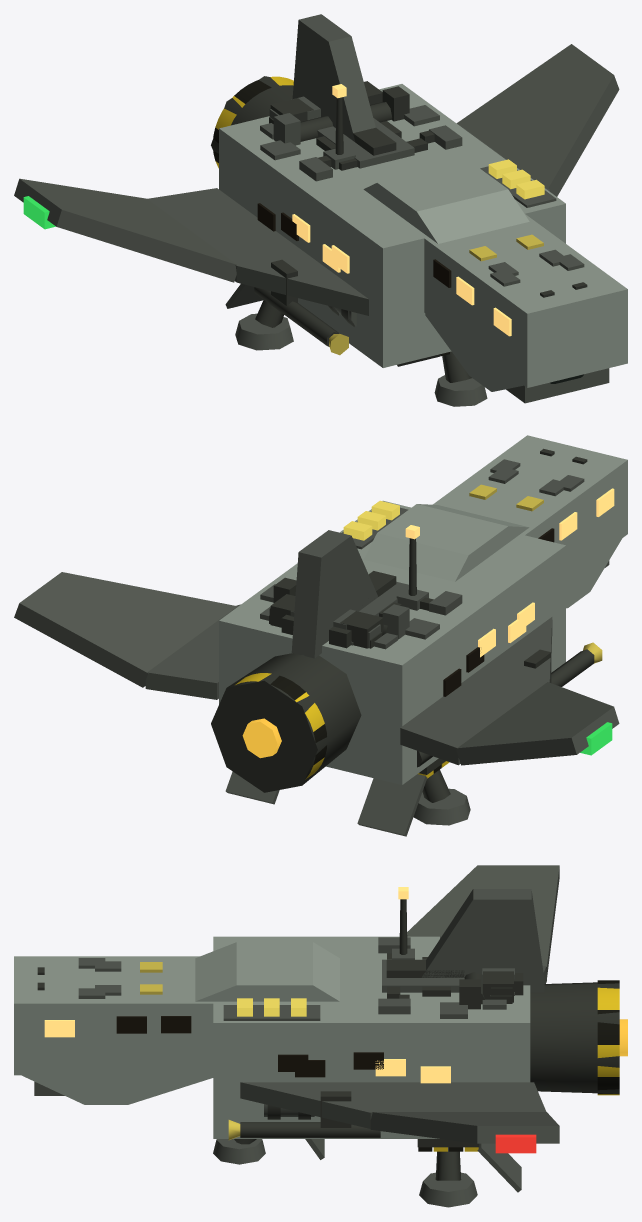
File: fighter-s(3).glb
The picture shows the model from 3 angles, top to bottom: view 1: azimuth 30°, elevation 25°; view 2: azimuth 150°, elevation 25°; view 3: azimuth 270°, elevation 25°; orthographic projection. The views are drawn at different scales.
Visible parts, largest first — view 1: hullMain, hullForebody, wingOuterRight, wingInnerLeft, wingOuterLeft, canopyFairing, stabilizerFin, gearFoot (×2), hullForebodyChamfer, engineHousing, accentStripe, hullNose (+13 smaller); view 2: hullMain, wingOuterRight, engineHousing, hullForebody, wingInnerLeft, wingOuterLeft, canopyFairing, stabilizerFin, wingInnerRight, gearBayDoor (×2), gearFoot, hullForebodyChamfer (+9 smaller); view 3: hullMain, hullForebody, wingInnerRight, stabilizerFin, canopyFairing, engineHousing, wingOuterLeft, wingOuterRight, hullForebodyChamfer, gearFoot (×2), laserBarrel, iffPlinthDorsal (+20 smaller).
Boxes of the visible parts, x1,y1,x2,y2 form: hullMain: (219,84,565,367); hullForebody: (417,214,627,387); wingOuterRight: (457,44,619,196); wingInnerLeft: (147,188,368,315); wingOuterLeft: (14,178,236,282); canopyFairing: (363,160,529,243); stabilizerFin: (292,14,375,142); gearFoot (×2): (235,313,487,406); hullForebodyChamfer: (425,313,523,391); engineHousing: (211,76,293,153); accentStripe: (317,118,414,168); hullNose: (506,368,609,403); hullMain: (219,500,565,784); wingOuterRight: (14,572,237,687); engineHousing: (211,653,361,792); hullForebody: (433,435,627,578); wingInnerLeft: (400,617,552,765); wingOuterLeft: (456,682,619,765); canopyFairing: (363,504,529,581); stabilizerFin: (291,530,378,658); wingInnerRight: (145,604,240,699); gearBayDoor (×2): (225,771,427,836); gearFoot: (413,788,470,825); hullForebodyChamfer: (566,538,622,608); hullMain: (213,936,530,1138); hullForebody: (14,956,213,1075); wingInnerRight: (240,1082,546,1128); stabilizerFin: (422,889,544,992); canopyFairing: (195,942,339,1001); engineHousing: (530,982,619,1093); wingOuterLeft: (407,865,559,976); wingOuterRight: (370,1112,559,1143); hullForebodyChamfer: (22,1075,213,1104); gearFoot (×2): (213,1139,477,1207); laserBarrel: (240,1122,380,1137); iffPlinthDorsal: (223,1005,320,1020).
Bounding box in the file's own units: 2.48 × 1.12 × 2.4.
